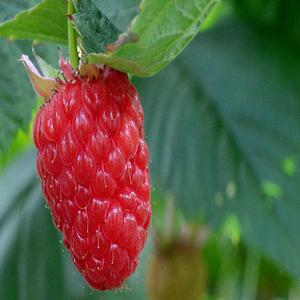raspb: (28, 72, 164, 288)
